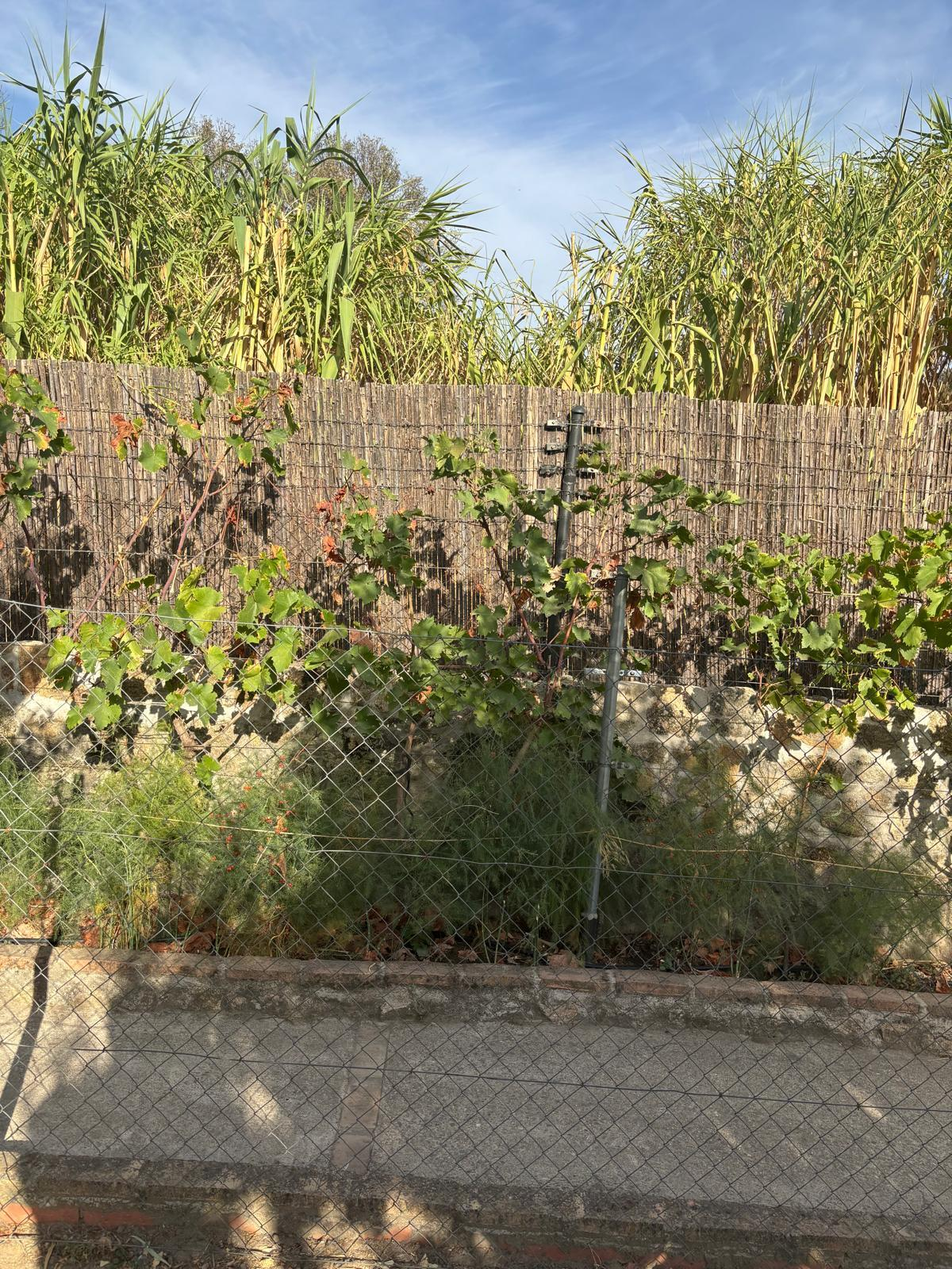vid: (74, 471, 929, 805)
